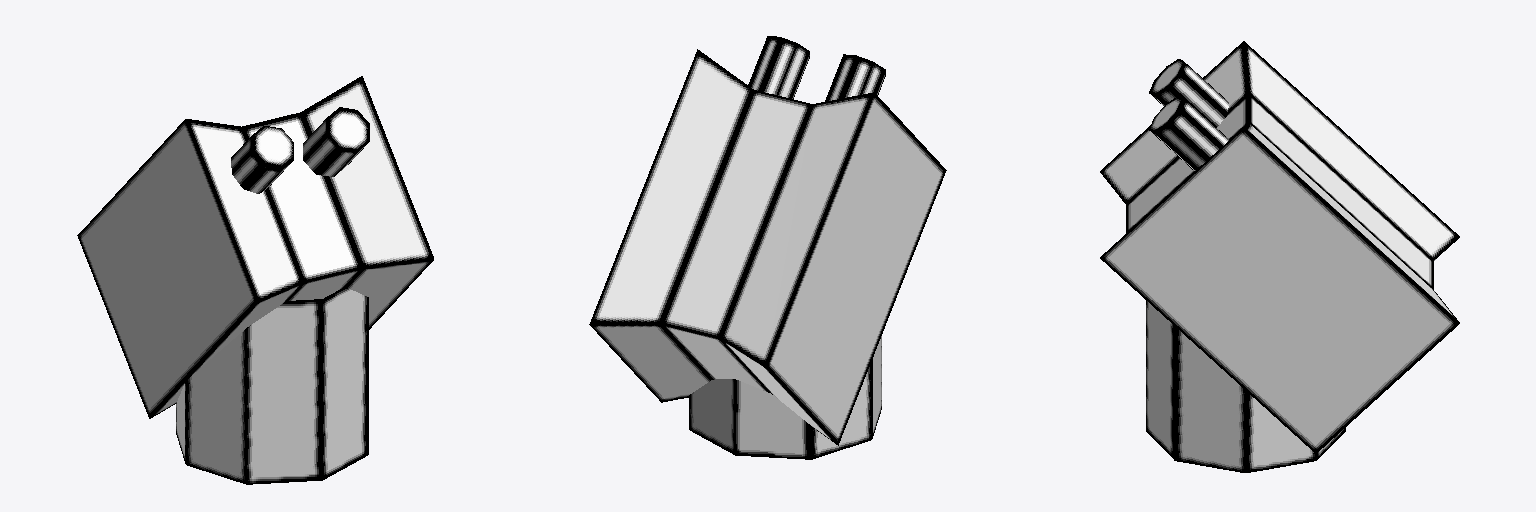
3 views of the same model, side by side, from view 1: azimuth 30°, elevation 25°; view 2: azimuth 150°, elevation 25°; view 3: azimuth 270°, elevation 25° (orthographic).
Parts seen in each view (by area): view 1: Box11; view 2: Box11; view 3: Box11.
Part boxes in pixels (x1,y1,x2,y2): Box11: (77,76,433,484); Box11: (589,36,946,459); Box11: (1100,41,1459,472).
Size of the model in its own units: 1.02 by 1.93 by 1.8.
1 materials, 1 textured.